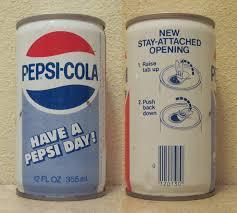Aluminum can: (122, 3, 214, 198), (15, 14, 108, 202)
